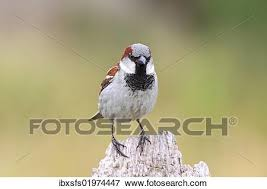hsparrow: (89, 41, 168, 154)
